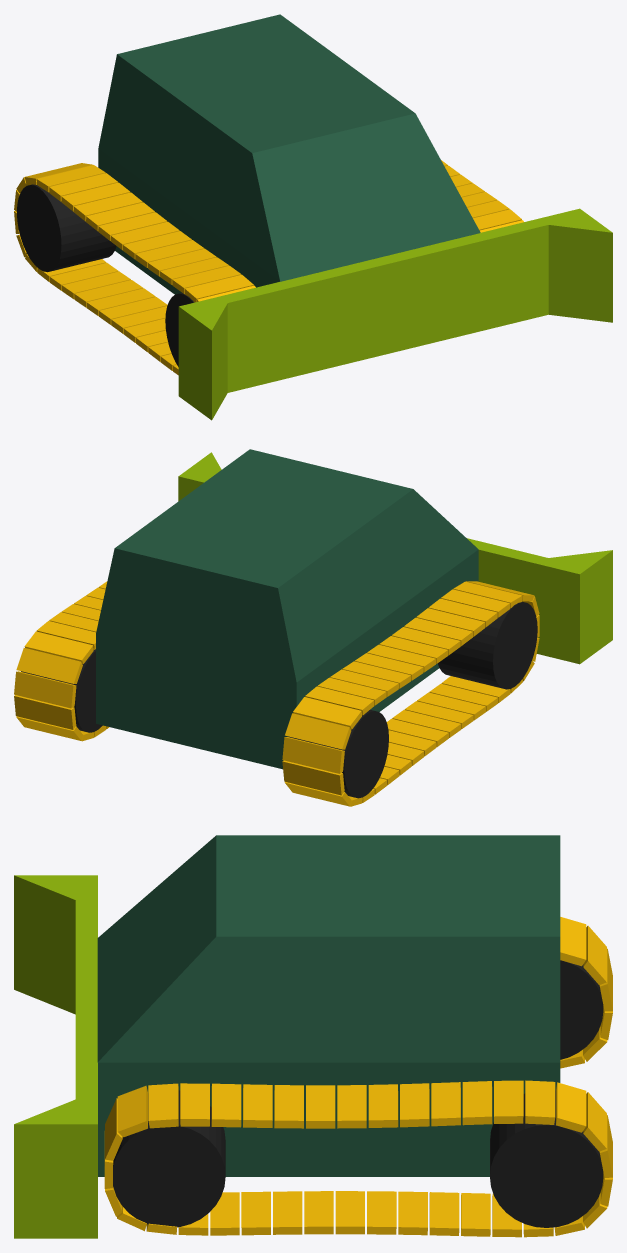
Rendered from MicroInvader.fbx.
The picture shows the model from 3 angles, top to bottom: view 1: azimuth 30°, elevation 25°; view 2: azimuth 150°, elevation 25°; view 3: azimuth 270°, elevation 25°; orthographic projection. The views are drawn at different scales.
Parts seen in each view (by area): view 1: Body, FrontBumper, RightTracks, RightRear, LeftTracks, RightFront; view 2: Body, RightTracks, FrontBumper, LeftTracks, RightFront, RightRear, LeftRear; view 3: Body, LeftTracks, FrontBumper, LeftRear, LeftFront, RightTracks, RightRear.
Part boxes in pixels (x1,y1,x2,y2): Body: [98, 14, 480, 294]; FrontBumper: [178, 208, 612, 420]; RightTracks: [14, 163, 255, 375]; RightRear: [17, 184, 116, 272]; LeftTracks: [441, 160, 523, 232]; RightFront: [165, 293, 194, 366]; Body: [96, 449, 478, 769]; RightTracks: [282, 581, 539, 806]; FrontBumper: [178, 452, 612, 664]; LeftTracks: [14, 581, 109, 741]; RightFront: [438, 602, 537, 689]; RightRear: [289, 709, 388, 798]; LeftRear: [21, 649, 102, 732]; Body: [97, 835, 560, 1176]; LeftTracks: [104, 1080, 612, 1237]; FrontBumper: [14, 875, 97, 1238]; LeftRear: [490, 1090, 603, 1227]; LeftFront: [113, 1090, 225, 1227]; RightTracks: [560, 917, 612, 1068]; RightRear: [560, 960, 603, 1059].
Size of the model in its own units: 14 by 6.58 by 14.24.
